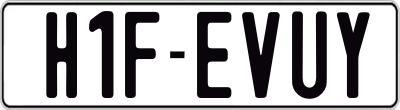1: (86, 10, 112, 99)
E: (196, 11, 230, 100)
F: (124, 9, 164, 95)
H: (45, 10, 82, 96)
U: (290, 11, 328, 100)
V: (241, 9, 282, 97)
Y: (334, 11, 373, 100)
